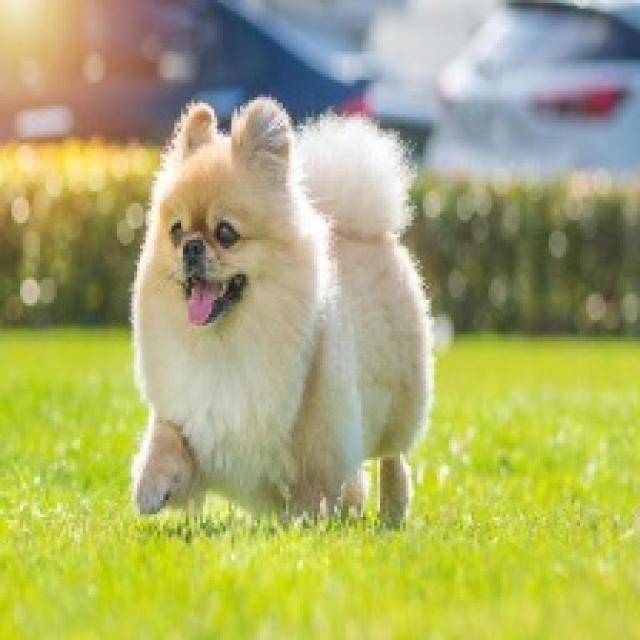bear: (90, 127, 598, 579)
